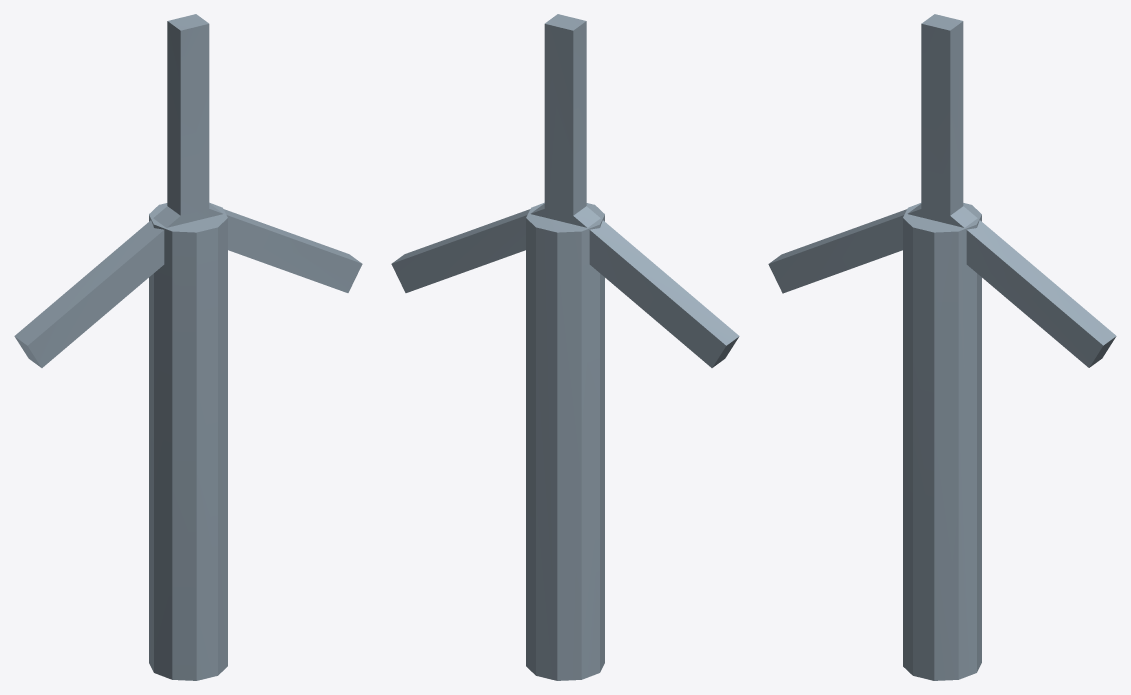
File: wind_turbine-04.glb
The picture shows the model from 3 angles, left to right: view 1: azimuth 30°, elevation 25°; view 2: azimuth 150°, elevation 25°; view 3: azimuth 330°, elevation 25°; orthographic projection.
Visible parts, largest first — view 1: world; view 2: world; view 3: world.
Part boxes in pixels (left/top/right/bottom): world: left=14, top=14, right=362, bottom=680; world: left=391, top=14, right=739, bottom=680; world: left=768, top=14, right=1116, bottom=680.
Bounding box in the file's own units: 1.17 × 2.14 × 0.2283.
